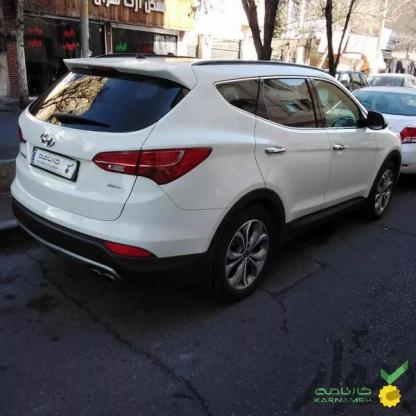Car: (3, 56, 398, 305), (329, 81, 416, 203)
